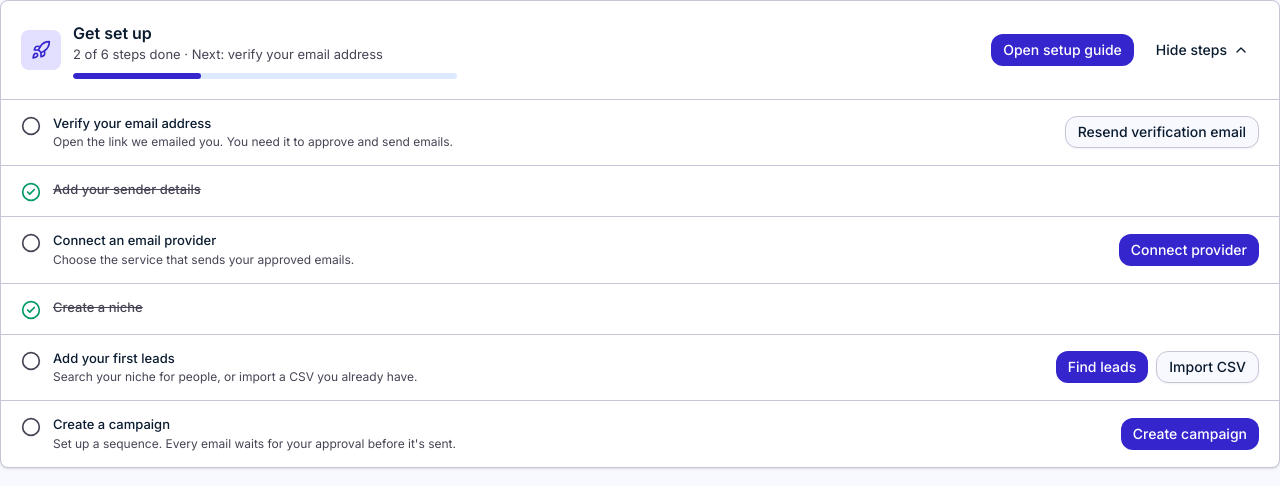
Test: OnboardingChecklist › collapses the steps
Click the button "Hide steps" at (1202, 50), box [1146, 34, 1259, 66]
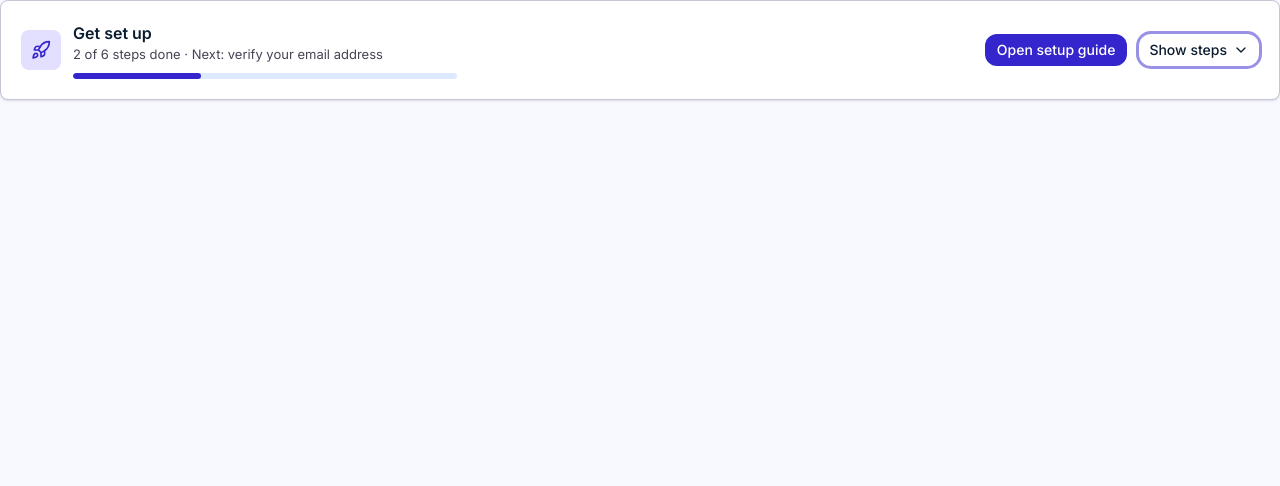
Expected: the list is gone
Expected: the button "Show steps" is collapsed, [1139, 34, 1259, 66]
